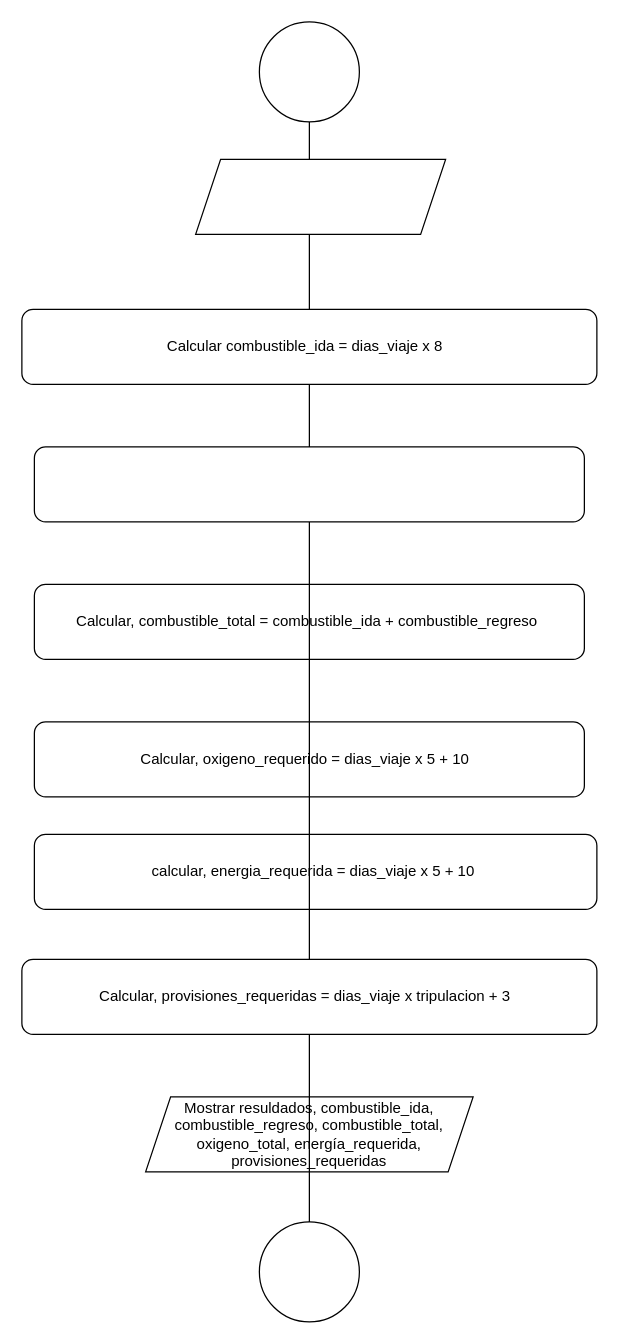
This 619x1344 diagram has some shape labels left out. Here are the shapes that lost their labels. From the top down, the centre of each, then its label:
At point 308,71: "inicio".
At point 320,196: "Leer nombre_misón, tripulación, días_viaje".
At point 308,1271: "Fin".
